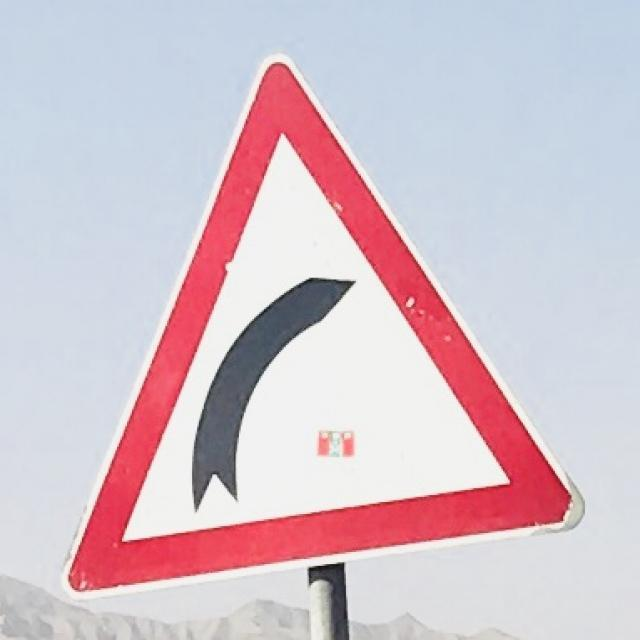right hand curve: (56, 44, 588, 604)
